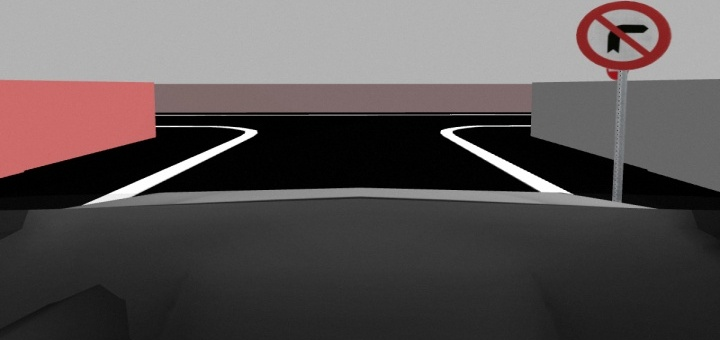saga_donulmez: (574, 1, 671, 72)
